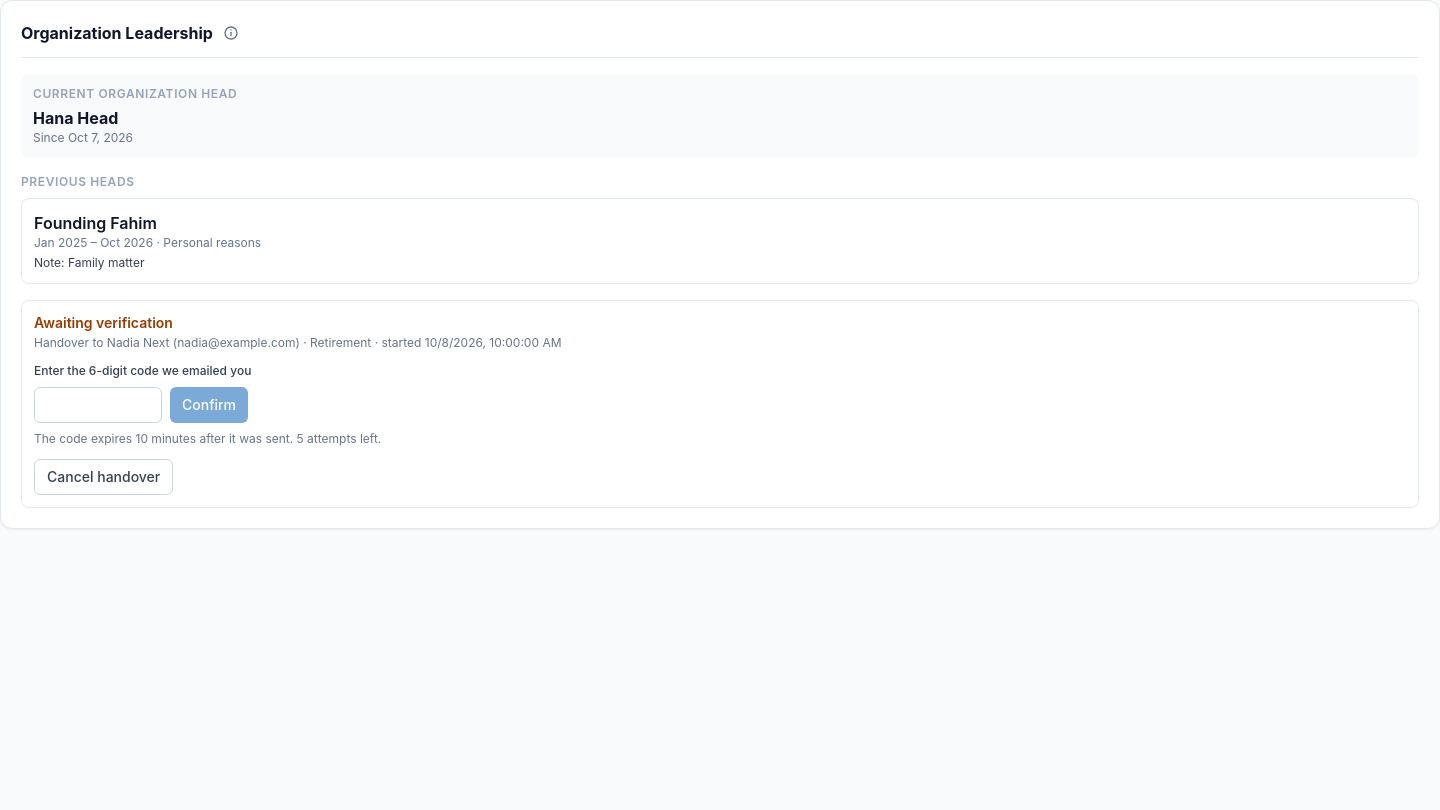
Scenario: Organization leadership (ADR-071) › awaiting verification: the Head enters the emailed code
Type "12a34 56" into the field labelled "Enter the 6-digit code we emailed you".
click(98, 405); type("12a34 56")  # box x1=34 y1=387 x2=162 y2=423
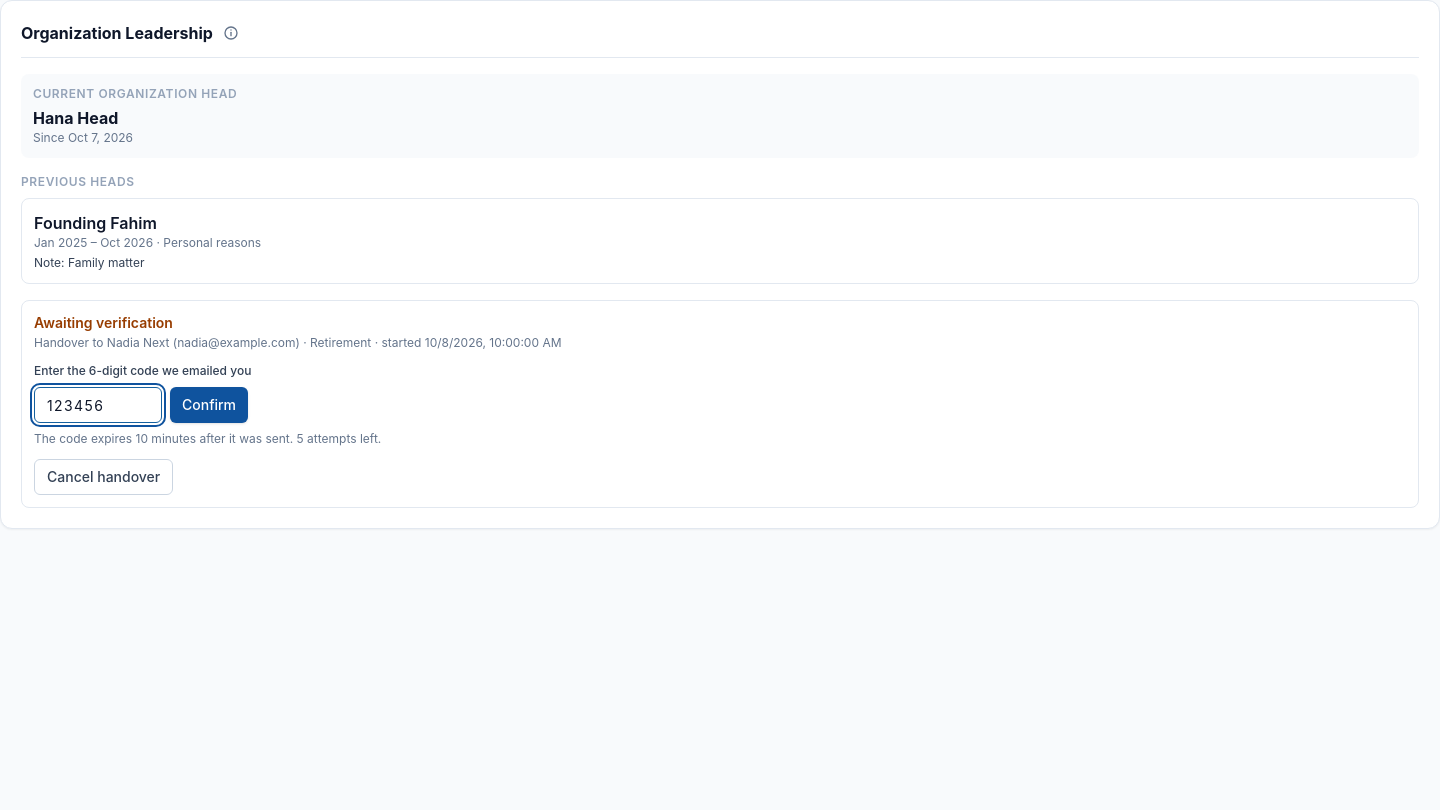
Now the field labelled "Enter the 6-digit code we emailed you" holds "123456", box x1=34 y1=387 x2=162 y2=423
Click the button "Confirm".
click(209, 405)  # box x1=170 y1=387 x2=248 y2=423
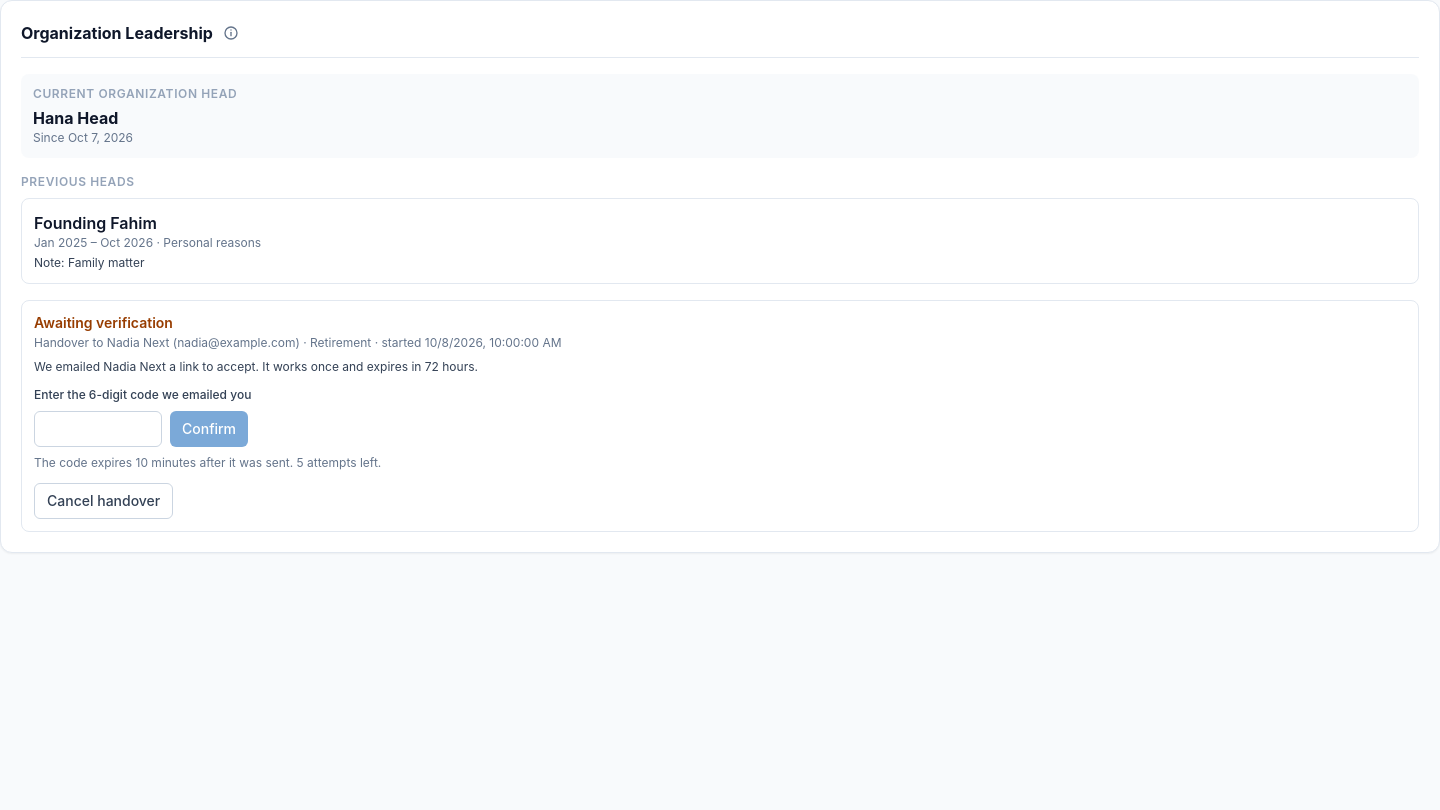
Now the text "emailed Nadia Next a link to accept" is shown, box x1=34 y1=359 x2=478 y2=374
